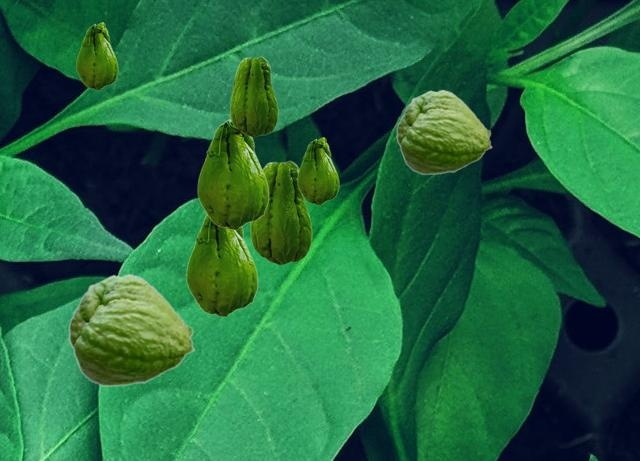sayote: (68, 273, 195, 386), (396, 89, 492, 174), (197, 118, 268, 229), (186, 215, 257, 316), (250, 160, 311, 264), (230, 56, 277, 136), (297, 137, 338, 204), (76, 22, 117, 89)
